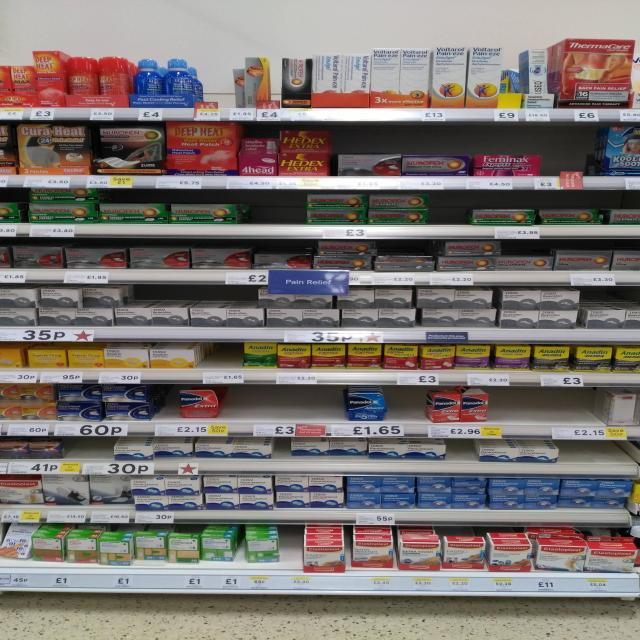empty_space: (226, 388, 337, 416), (497, 392, 598, 420), (242, 193, 298, 223), (570, 445, 630, 463), (391, 390, 423, 419)
